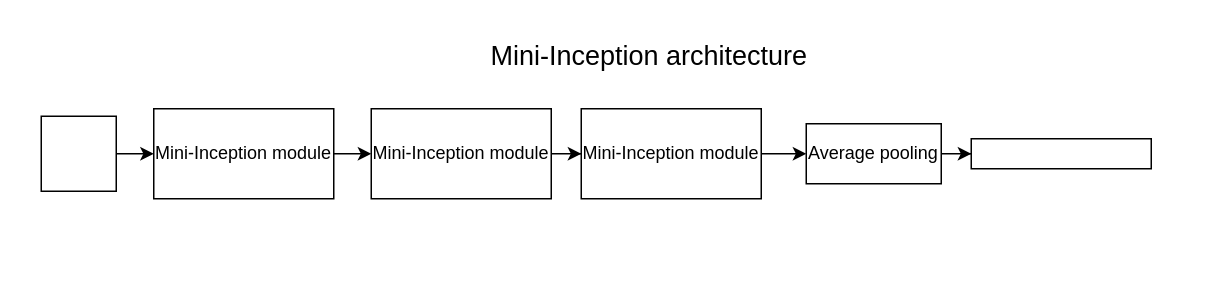
Image size: 1206x306. Some labels were removed from this diagram. Here are the shapes that lost their labels. From the top down, the centre of each, then its label:
At (x=78, y=153): "Input".
At (x=1060, y=153): "Dense".
